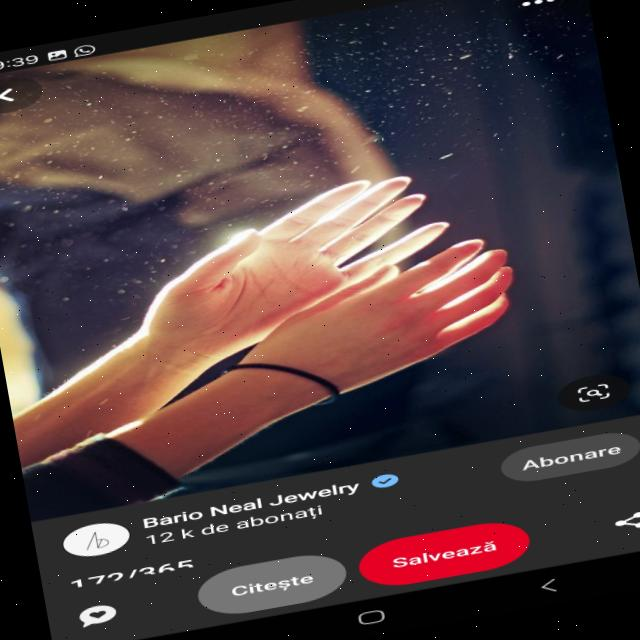hands: (74, 90, 468, 376), (216, 200, 610, 434)
